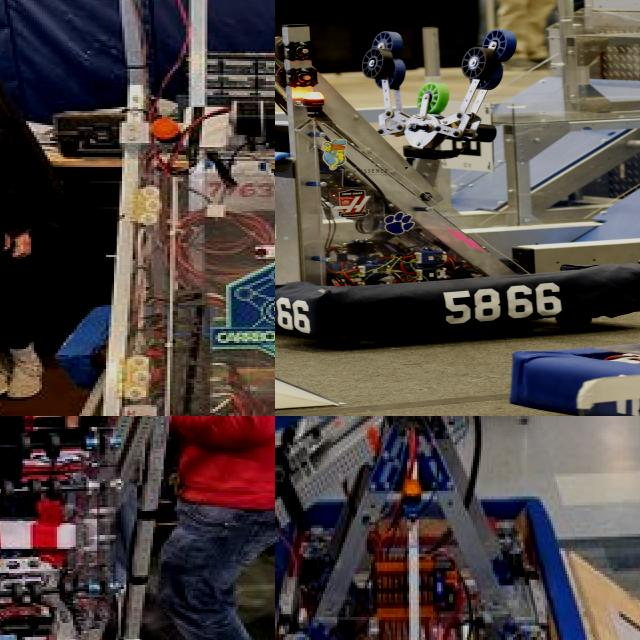FRC-Robots: (275, 15, 640, 328), (27, 72, 275, 416), (275, 416, 608, 640), (0, 416, 200, 640), (444, 302, 640, 416)
